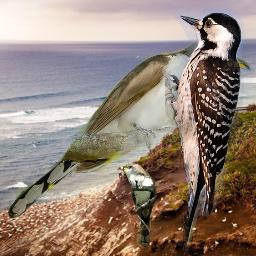Cuckoo: (3, 38, 256, 220), (117, 163, 157, 247)
Woodpecker: (165, 6, 245, 253)
